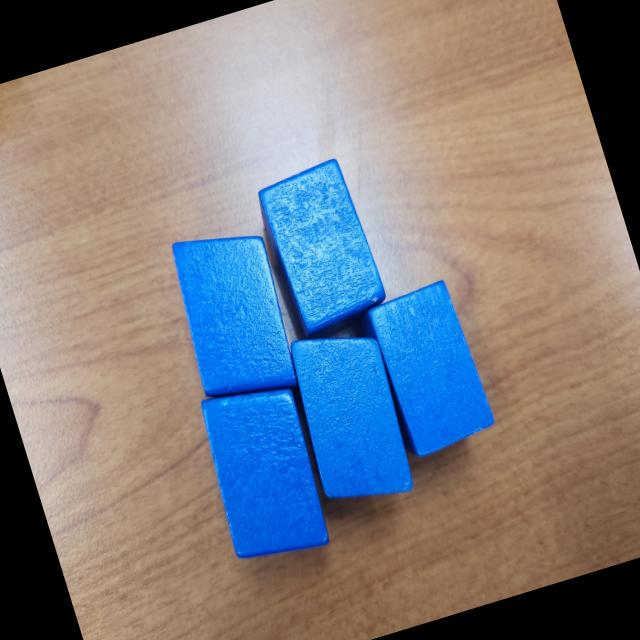blue: (190, 372, 343, 574), (274, 316, 424, 517), (160, 218, 308, 416), (248, 154, 393, 346), (360, 276, 499, 464)
